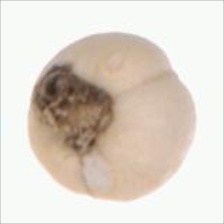L4: (26, 32, 196, 200)
